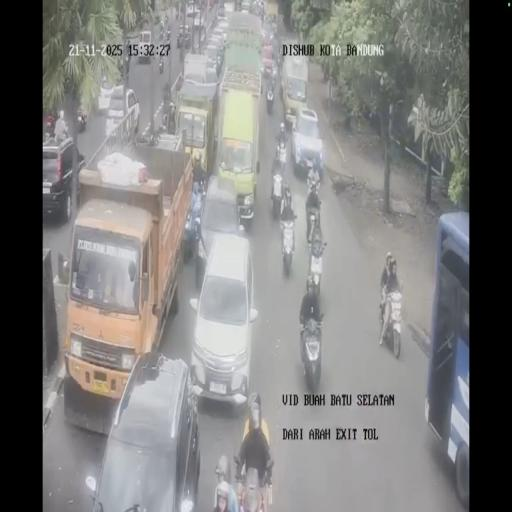3: (65, 146, 192, 416), (425, 213, 471, 501), (174, 57, 220, 181), (222, 8, 264, 81), (280, 54, 308, 129), (264, 0, 279, 20)
car: (196, 173, 242, 265), (42, 134, 82, 221), (291, 108, 323, 178), (104, 85, 140, 140), (262, 25, 279, 77), (203, 40, 224, 79), (138, 29, 152, 62), (185, 5, 201, 28), (177, 24, 191, 48), (249, 0, 263, 16), (216, 3, 228, 21), (240, 0, 251, 12), (159, 18, 165, 38)
truck: (234, 452, 272, 511), (298, 306, 324, 388), (378, 287, 402, 359), (181, 193, 200, 269), (278, 210, 297, 276), (305, 200, 323, 250), (308, 254, 324, 299), (162, 93, 176, 132), (270, 179, 282, 220), (276, 139, 288, 175), (306, 170, 320, 200), (280, 177, 292, 208), (77, 110, 86, 133), (165, 28, 171, 47), (158, 58, 164, 74)
